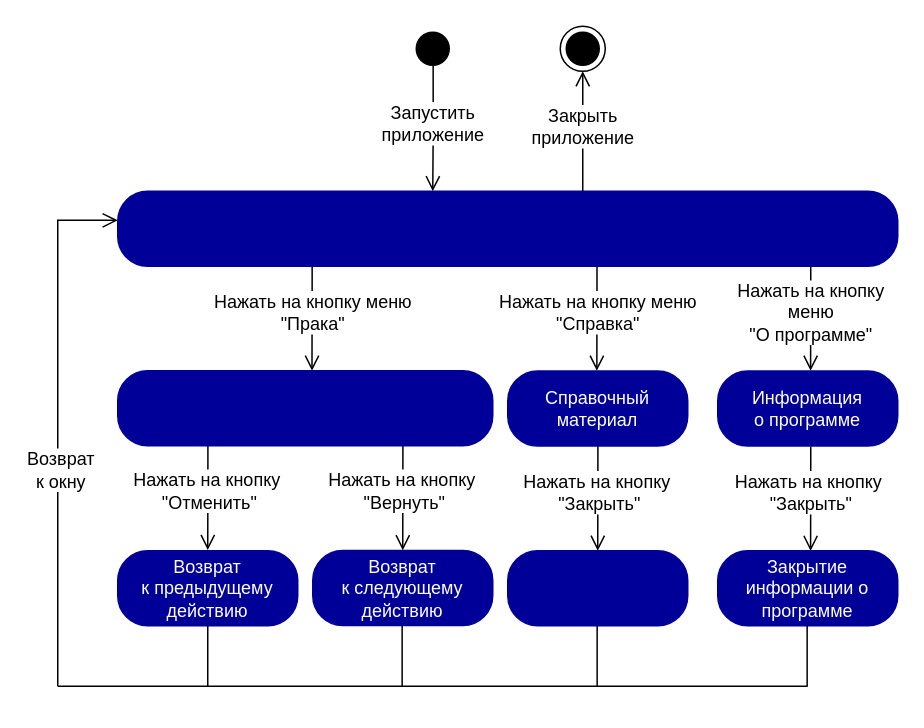
Image size: 924x728. Some labels were removed from this diagram. The shapes that lost their labels are listed below. From the top down, each one's centre as x and y in pixels, then its label:
the point at 507,228: Главное окно
the point at 304,407: Меню "Правка"
the point at 597,587: Закрытие справочника
